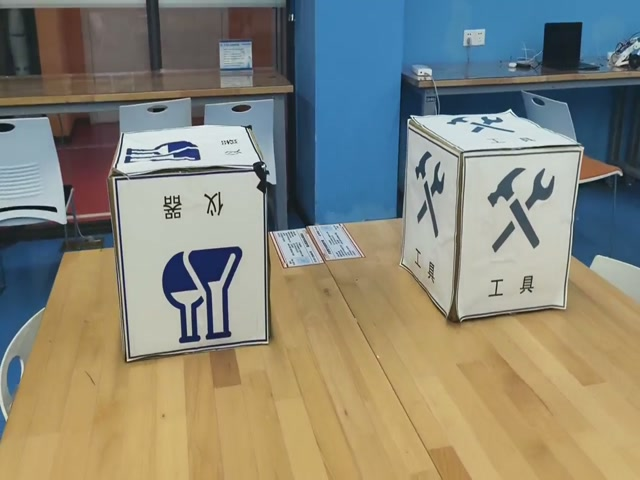Cube_ins: (108, 126, 263, 181)
Cube_tool: (409, 111, 581, 159)
